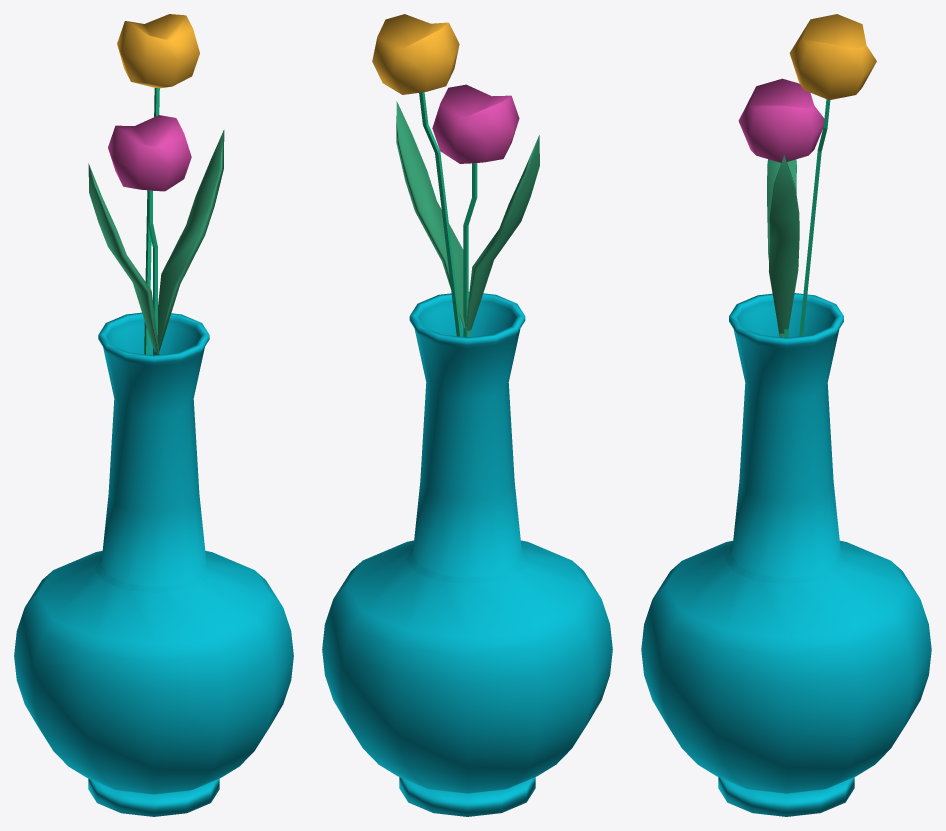
File: corona-vase-flower.fbx
3 renders of one model, left to right at view 1: azimuth 30°, elevation 25°; view 2: azimuth 150°, elevation 25°; view 3: azimuth 270°, elevation 25°, orthographic. The views are drawn at different scales.
Parts seen in each view (by area): view 1: Sphere, Cube.002, Cube.006, Cube.003, Cube.004, Cube, Cube.005; view 2: Sphere, Cube.006, Cube.002, Cube.003, Cube.004, Cube.005, Cube; view 3: Sphere, Cube.006, Cube.002, Cube.003, Cube.005, Cube.004.
Boxes of the visible parts, x1,y1,x2,y2 form: Sphere: (14,312,293,816); Cube.002: (108,115,191,191); Cube.006: (117,14,199,88); Cube.003: (153,130,224,355); Cube.004: (88,163,159,354); Cube: (147,190,157,355); Cube.005: (144,88,159,354); Sphere: (322,292,612,816); Cube.006: (372,14,459,94); Cube.002: (432,84,519,163); Cube.003: (396,101,471,335); Cube.004: (466,135,539,330); Cube.005: (419,92,462,336); Cube: (463,163,477,337); Sphere: (641,293,931,816); Cube.006: (789,14,876,100); Cube.002: (738,78,824,162); Cube.003: (769,155,799,333); Cube.005: (799,99,830,336); Cube.004: (767,159,796,337).
Size of the model in its own units: 284 by 838 by 284.
